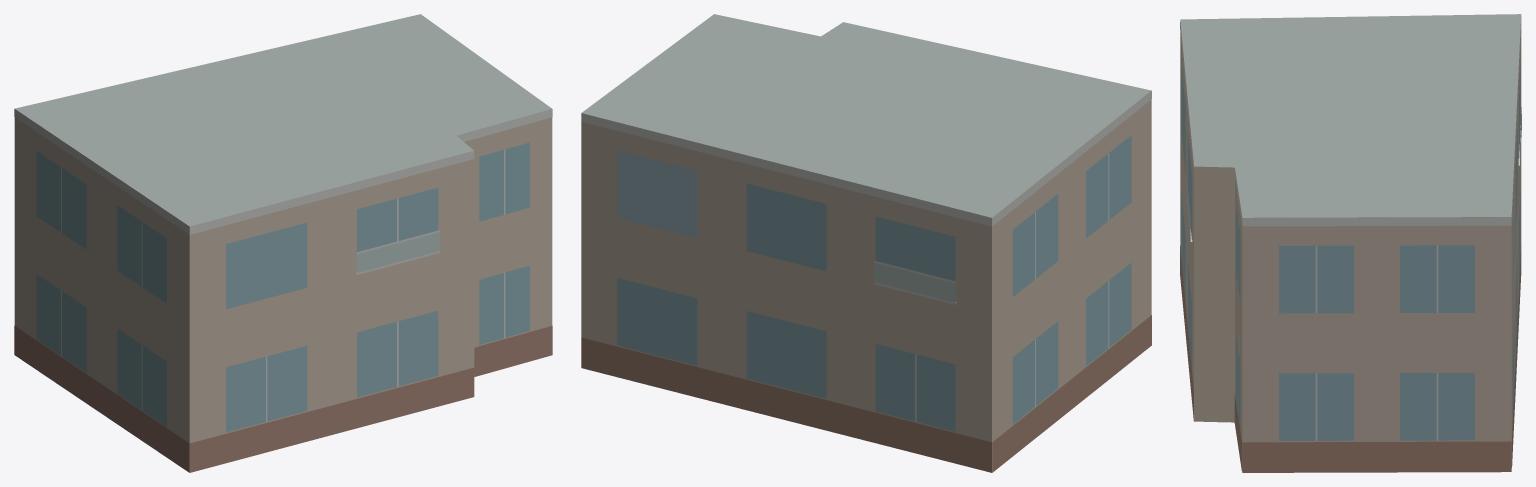
File: survey-upis-32495590.glb
3 renders of one model, left to right at view 1: azimuth 30°, elevation 25°; view 2: azimuth 150°, elevation 25°; view 3: azimuth 270°, elevation 25°, orthographic. The views are drawn at different scales.
Visible parts, largest first — view 1: survey-upis-32495590.tmp; view 2: survey-upis-32495590.tmp; view 3: survey-upis-32495590.tmp.
Boxes of the visible parts, x1=… form: survey-upis-32495590.tmp: x1=14, y1=14, x2=552, y2=472; survey-upis-32495590.tmp: x1=581, y1=14, x2=1151, y2=472; survey-upis-32495590.tmp: x1=1180, y1=14, x2=1521, y2=472.
Bounding box in the file's own units: 12.35 × 7.2 × 8.75.
